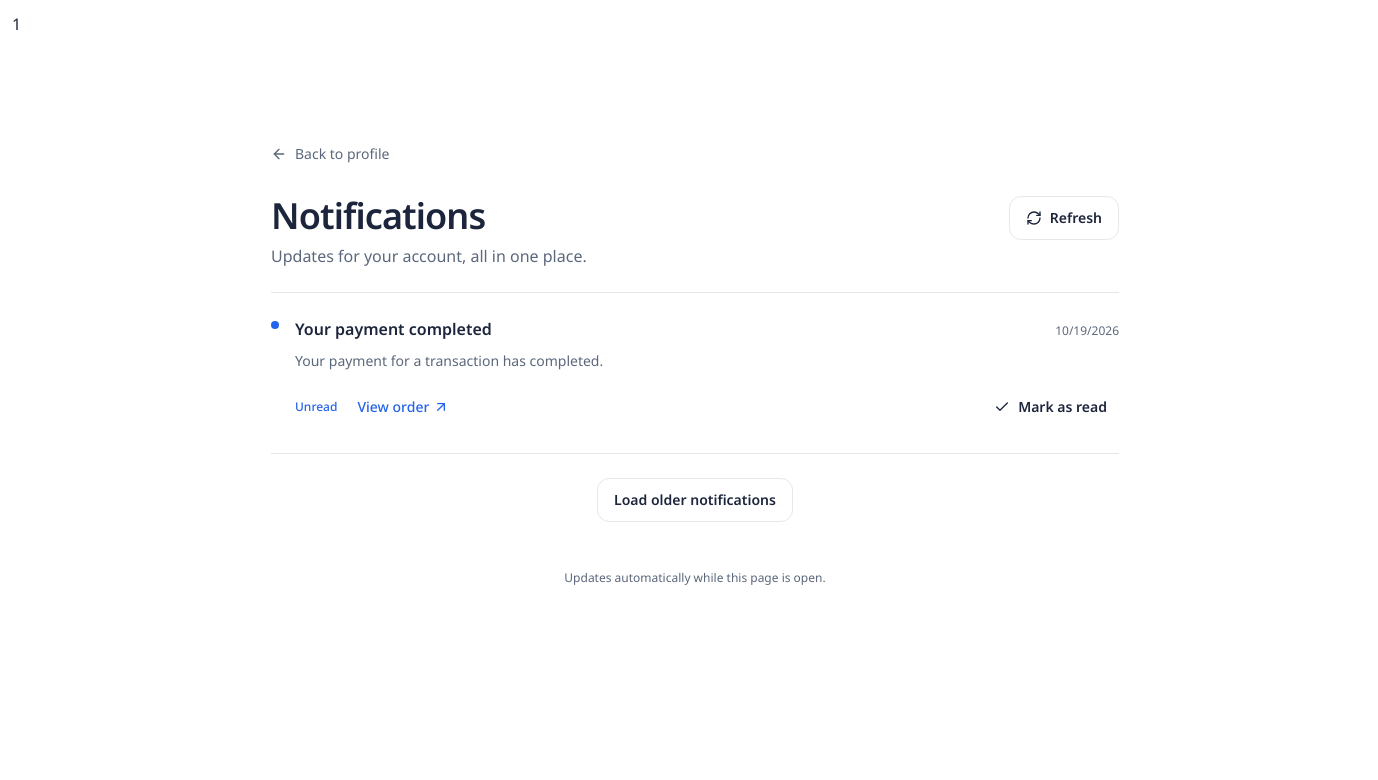
Test: notification journeys › loads older rows and retains current rows if loading more fails
Click the button "Load older notifications": (695, 500) [597,478,793,522]
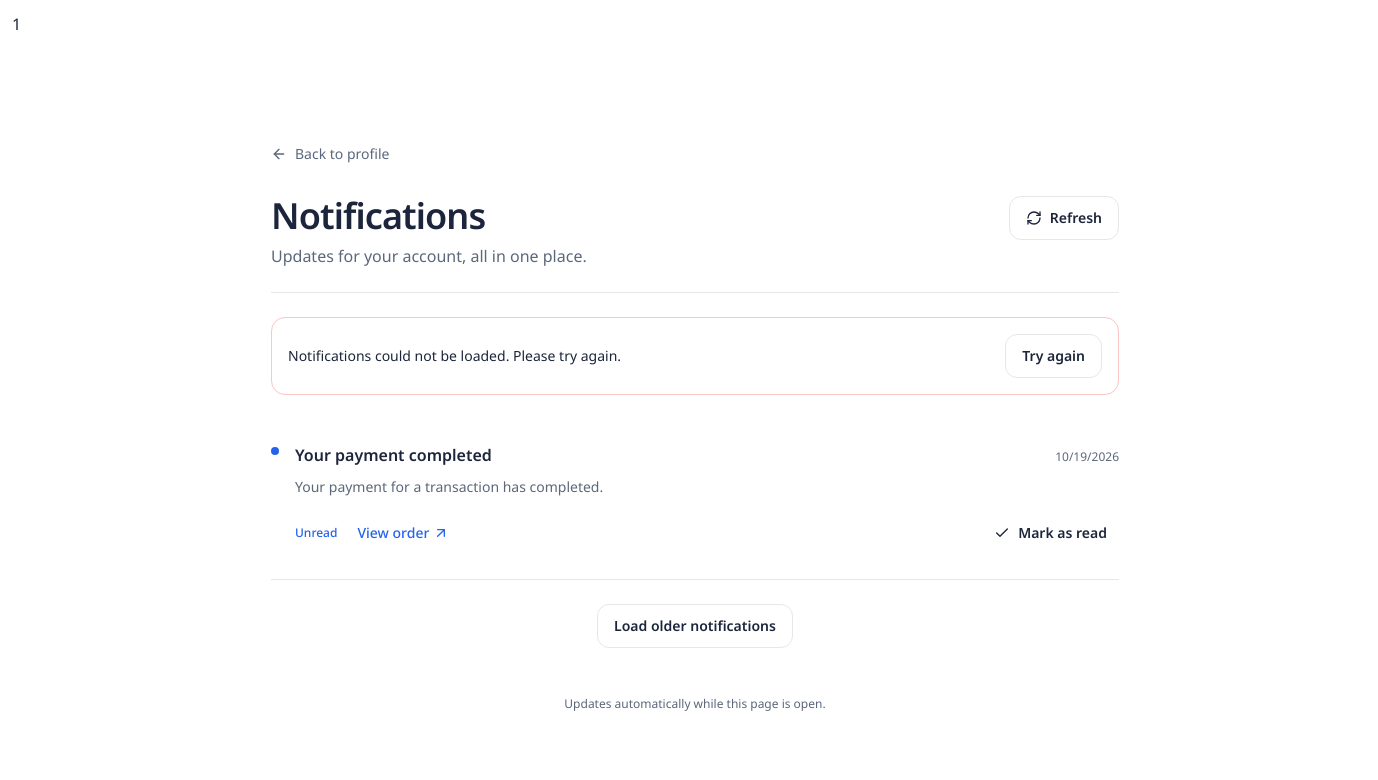
Expected: the heading "Your payment completed" is shown, [295,443,492,467]
Result: the message "Notifications could not be loaded. Please try again. Try again" is shown at [271,317,1119,395]
Click the button "Try again": (1054, 356) [1005,334,1102,378]
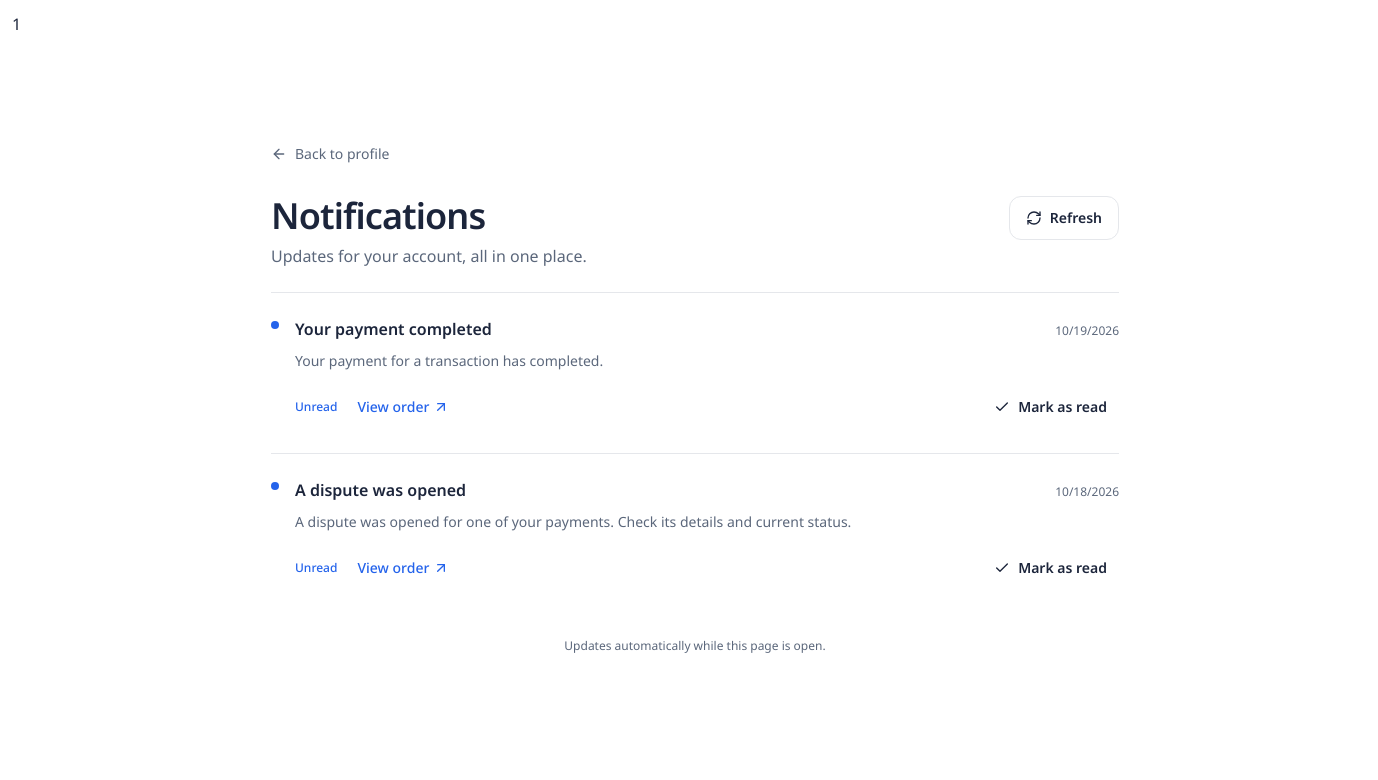
Expected: the heading "Your payment completed" is shown, [295,317,492,341]
Result: the heading "A dispute was opened" is shown at [295,478,466,502]
